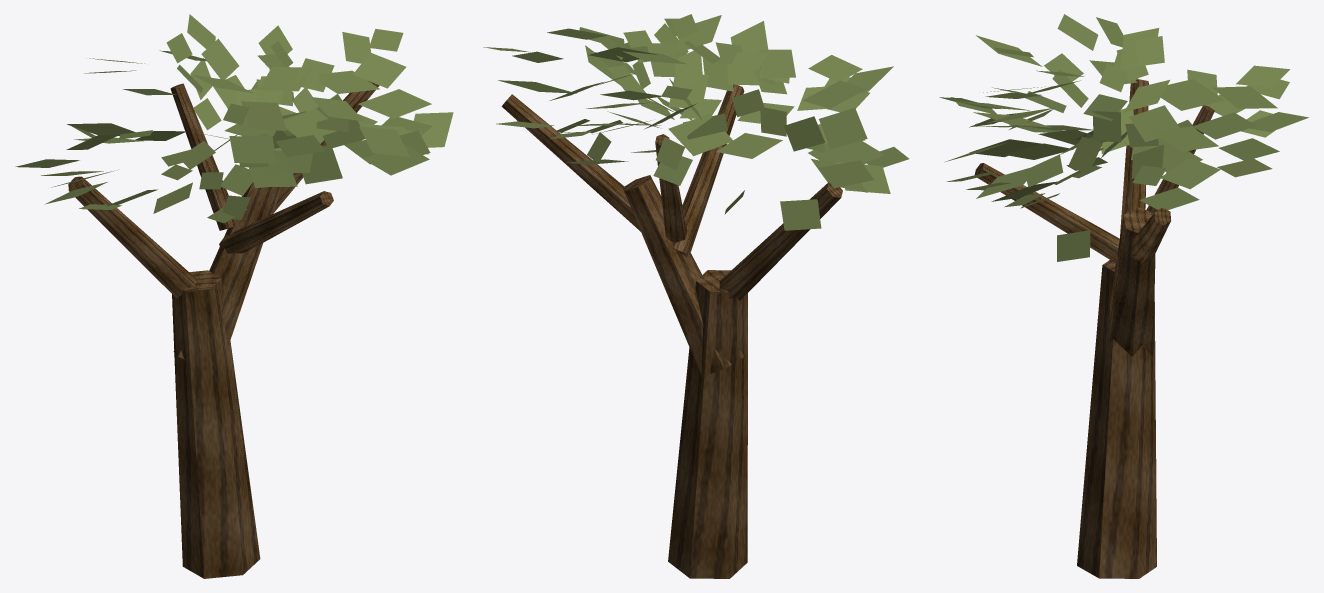
The model's file is nodo-tree-olive-final-D0g7abZP.glb.
3 views of the same model, side by side, from view 1: azimuth 30°, elevation 25°; view 2: azimuth 150°, elevation 25°; view 3: azimuth 270°, elevation 25° (orthographic). The views are drawn at different scales.
Parts seen in each view (by area): view 1: nodo-tree-olive-final; view 2: nodo-tree-olive-final; view 3: nodo-tree-olive-final.
Part boxes in pixels (x1,y1,x2,y2): nodo-tree-olive-final: (15, 14, 453, 578); nodo-tree-olive-final: (483, 14, 909, 578); nodo-tree-olive-final: (939, 14, 1308, 578).
Size of the model in its own units: 20.57 by 24.03 by 16.17.
Materials: 2 (2 with a texture image).
